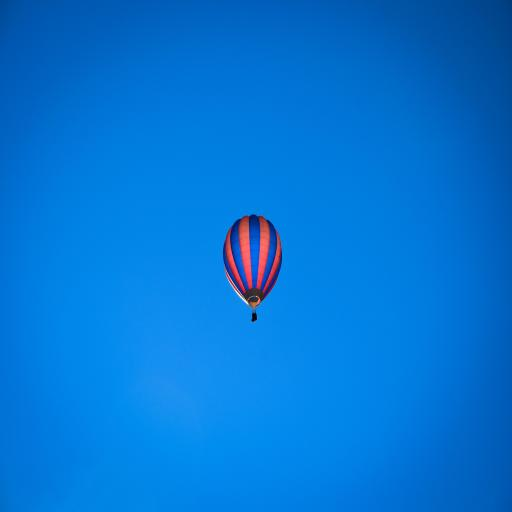hot air ballon: (223, 214, 282, 323)
